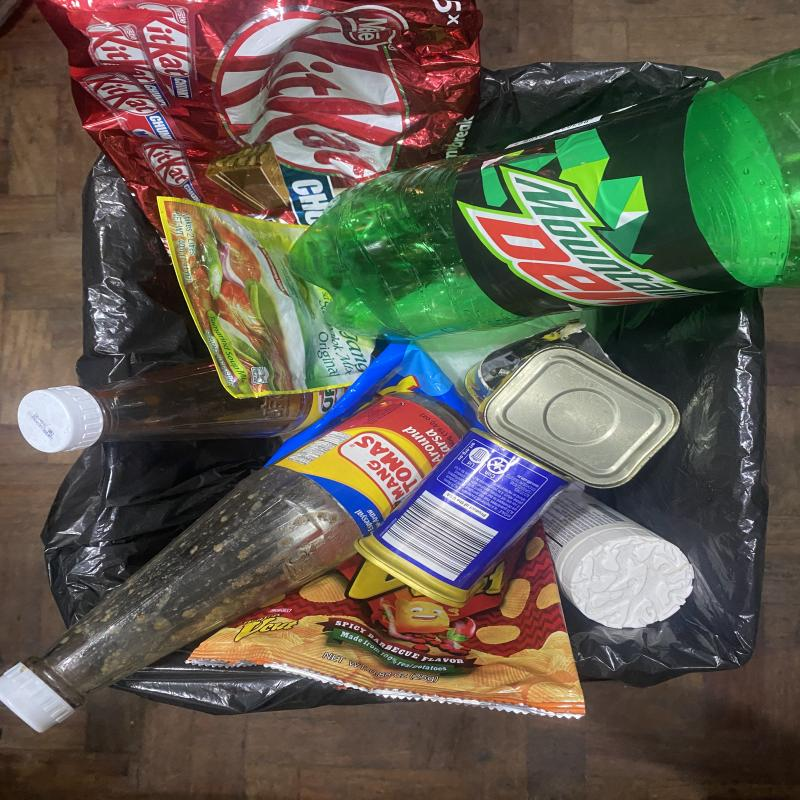aluminum: (354, 428, 570, 608), (465, 321, 680, 488)
food wrapper: (35, 0, 485, 239), (187, 528, 586, 718), (156, 196, 375, 399), (263, 343, 489, 468)
glass bottle: (0, 393, 469, 734), (16, 358, 347, 453)
plastic bottle: (287, 48, 800, 341), (542, 492, 695, 629)
